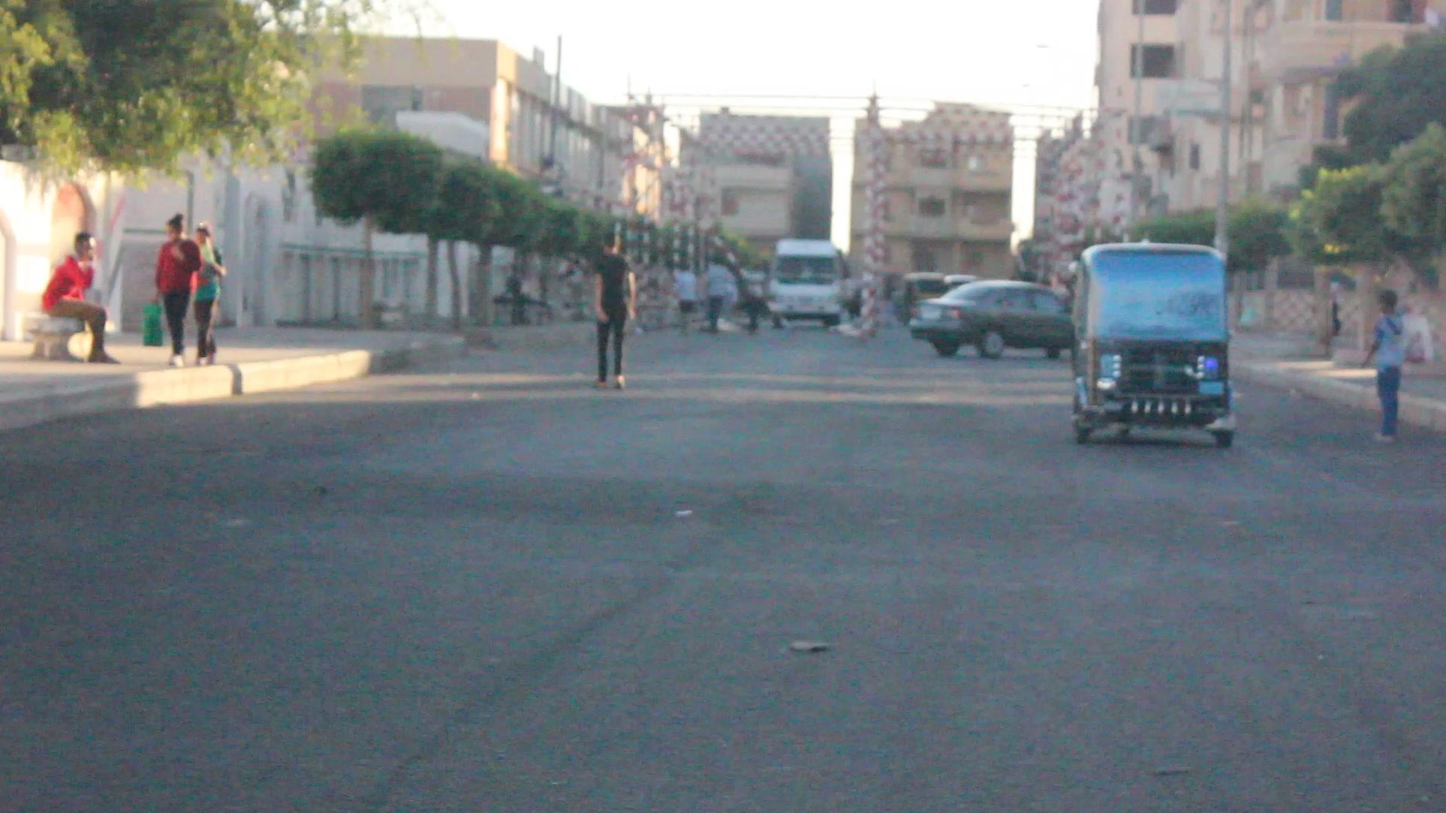Bump: (0, 432, 1445, 575)
